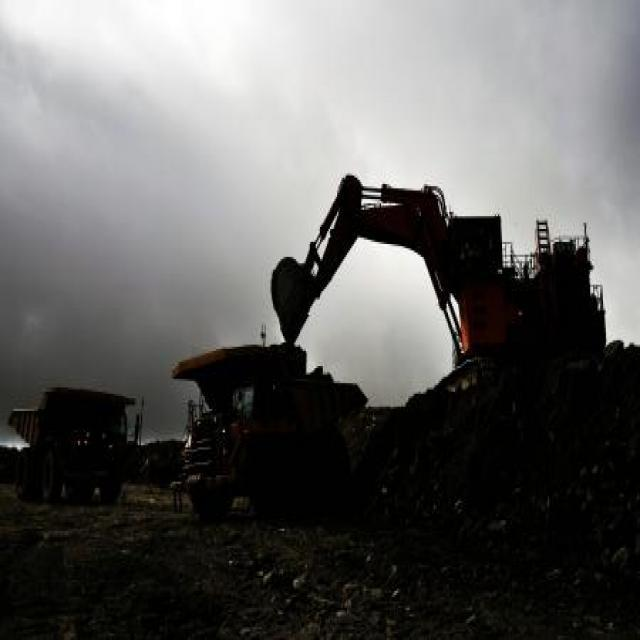machinery: (266, 175, 608, 404), (169, 336, 371, 522), (7, 388, 147, 512)
